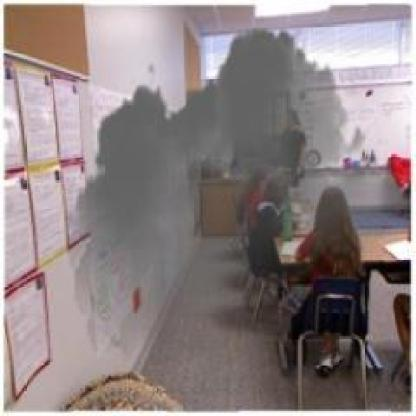Smoke: (66, 14, 412, 374)
